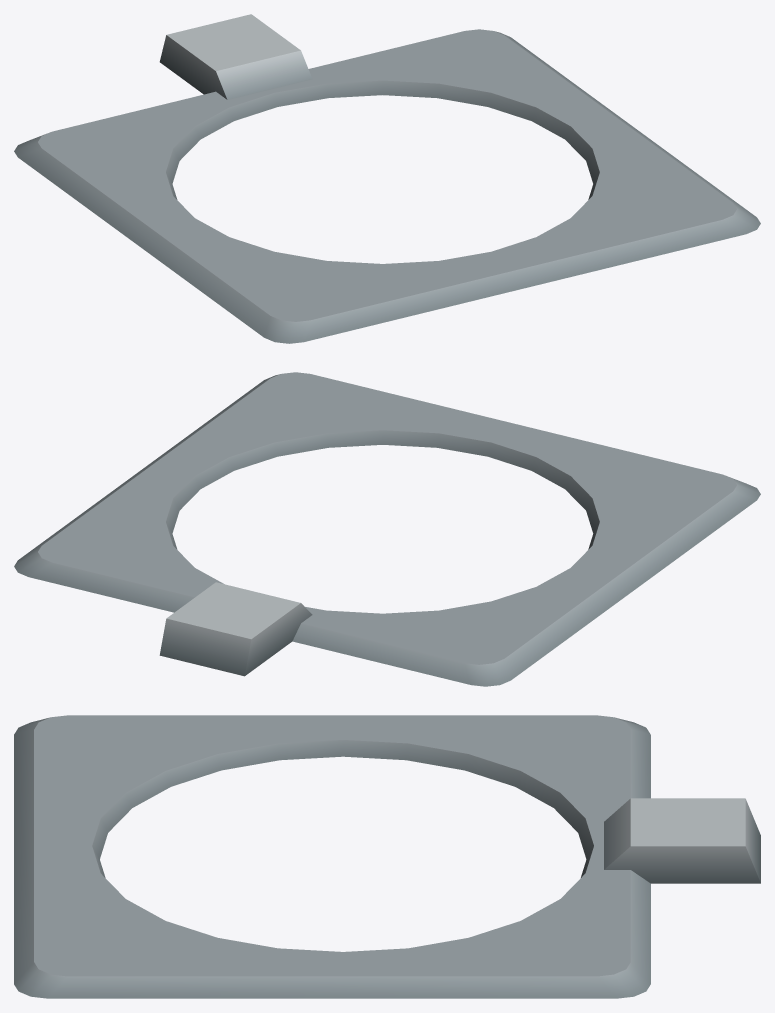
Rendered from Hatch_003.fbx.
3 renders of one model, top to bottom at view 1: azimuth 30°, elevation 25°; view 2: azimuth 150°, elevation 25°; view 3: azimuth 270°, elevation 25°, orthographic. The views are drawn at different scales.
Parts seen in each view (by area): view 1: Hatch_003; view 2: Hatch_003; view 3: Hatch_003.
Part boxes in pixels (x1,y1,x2,y2): Hatch_003: (14, 14, 760, 343); Hatch_003: (14, 372, 760, 686); Hatch_003: (14, 715, 760, 998).
Bounding box in the file's own units: 87.47 × 99.25 × 5.46.
